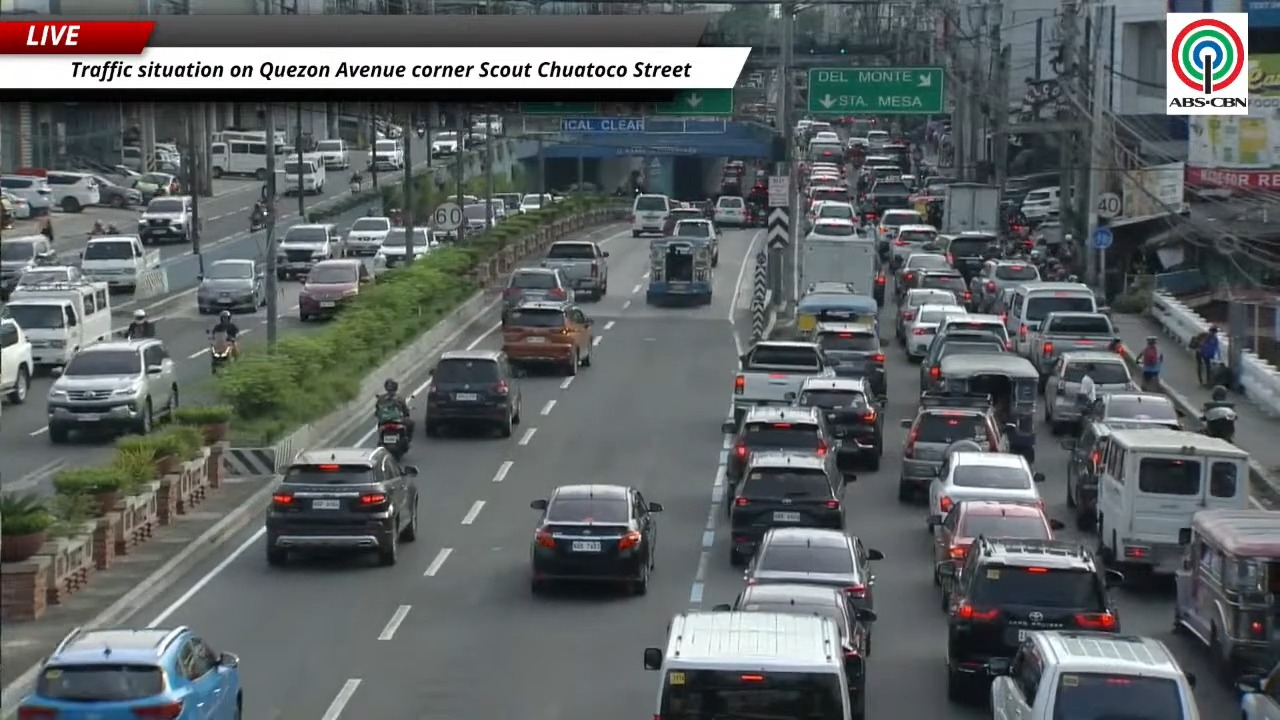bus: (210, 140, 267, 179), (210, 129, 265, 142)
car: (938, 538, 1123, 700), (713, 582, 876, 716), (17, 626, 243, 719), (990, 630, 1201, 719), (265, 445, 418, 565), (530, 484, 662, 594), (931, 500, 1063, 610), (47, 338, 178, 444), (729, 451, 844, 565), (744, 525, 883, 609), (898, 394, 1006, 501), (726, 406, 833, 501), (927, 451, 1044, 533), (795, 378, 882, 477), (424, 350, 521, 436), (1044, 351, 1137, 433), (501, 300, 592, 375), (1060, 422, 1111, 530), (812, 322, 885, 397), (919, 333, 1008, 391), (298, 258, 373, 321), (196, 258, 265, 313), (970, 259, 1040, 311), (894, 289, 958, 345), (1086, 392, 1180, 429), (904, 305, 966, 361), (502, 267, 574, 311), (939, 231, 1001, 280), (895, 252, 952, 302), (938, 313, 1013, 351), (137, 195, 194, 244), (911, 270, 973, 311), (1237, 661, 1279, 719), (890, 223, 937, 270), (672, 219, 718, 267), (0, 174, 52, 216), (344, 216, 392, 256), (14, 265, 84, 289), (91, 175, 141, 208), (806, 201, 856, 229), (133, 172, 179, 202), (664, 205, 709, 235), (806, 218, 857, 239), (714, 195, 746, 226), (985, 288, 1015, 321), (0, 191, 31, 222), (806, 281, 857, 294), (519, 193, 550, 213)
motorcycle: (375, 399, 409, 459), (1200, 407, 1237, 442), (378, 420, 407, 459), (210, 333, 234, 374), (249, 210, 268, 231), (349, 180, 361, 194)
truck: (0, 281, 111, 369), (732, 340, 835, 426), (1029, 312, 1119, 390), (798, 234, 884, 304), (646, 235, 714, 304), (79, 235, 160, 291), (540, 240, 608, 299), (275, 224, 344, 279), (0, 234, 56, 298), (940, 182, 999, 234), (0, 318, 33, 403)
